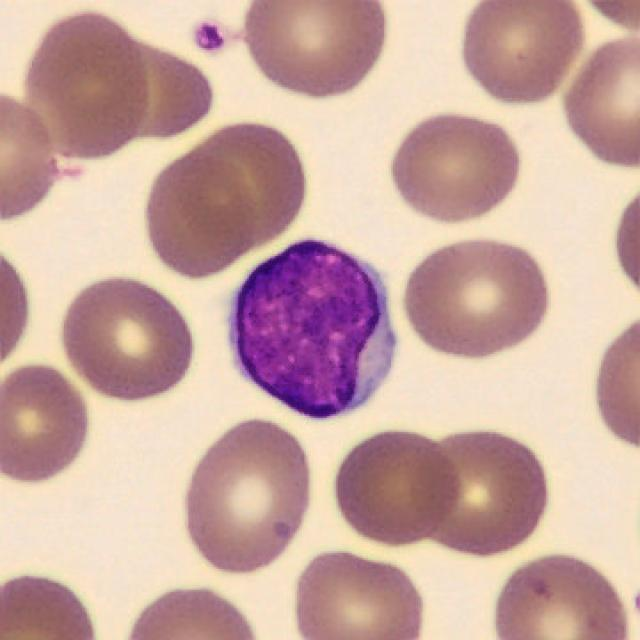Linfocito: (229, 240, 396, 416)
